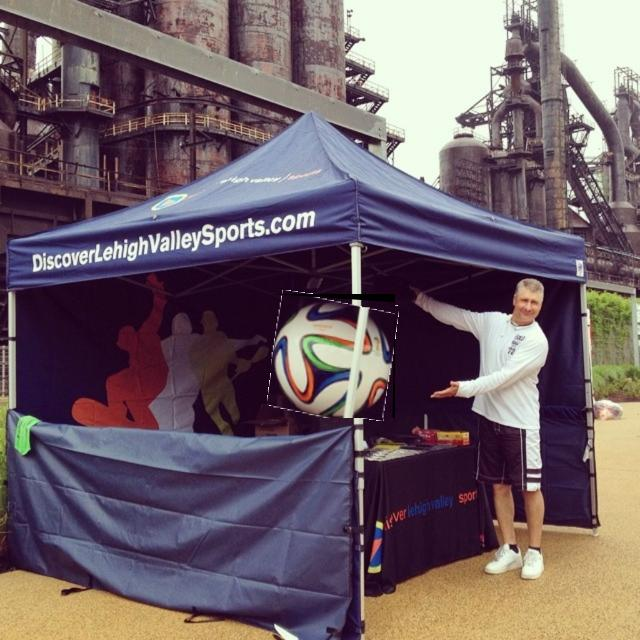Football: (271, 294, 395, 418)
